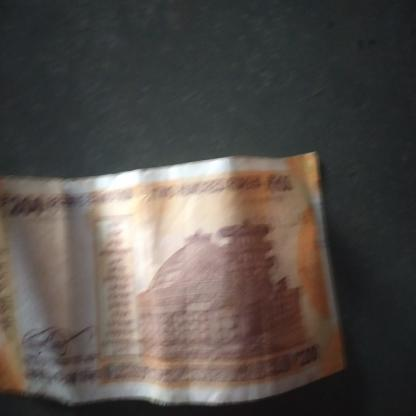New200Back: (0, 170, 336, 397)
